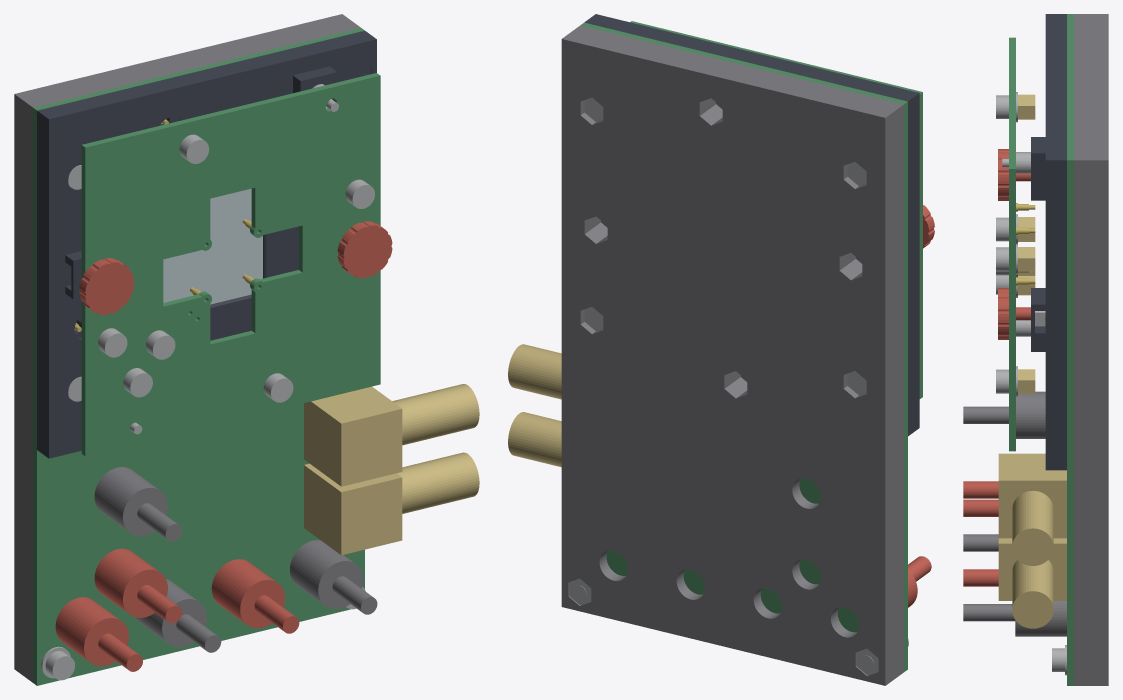
File: T2P-L3-pin_open.glb
3 views of the same model, side by side, from view 1: azimuth 30°, elevation 25°; view 2: azimuth 150°, elevation 25°; view 3: azimuth 270°, elevation 25° (orthographic). The views are drawn at different scales.
Parts seen in each view (by area): view 1: p034, p001, p002, p000, p013, p012, p007, p010, p008, p033, p032, p011 (+3 smaller); view 2: p000, p002, p001, p013, p012, p034, p008; view 3: p000, p002, p013, p001, p012, p034, p032, p011, p052, p051, p008, p009 (+13 smaller).
Boxes of the visible parts, bbox=[...] form: p034: bbox=[81, 73, 380, 456]; p001: bbox=[33, 28, 364, 685]; p002: bbox=[37, 30, 376, 458]; p000: bbox=[14, 14, 360, 682]; p013: bbox=[304, 384, 479, 486]; p012: bbox=[304, 452, 479, 555]; p007: bbox=[163, 188, 262, 304]; p010: bbox=[211, 559, 299, 633]; p008: bbox=[55, 597, 142, 671]; p033: bbox=[94, 548, 181, 623]; p032: bbox=[94, 467, 181, 541]; p011: bbox=[290, 540, 377, 614]; p000: bbox=[561, 25, 903, 685]; p002: bbox=[584, 14, 919, 436]; p001: bbox=[581, 22, 907, 671]; p013: bbox=[508, 344, 561, 399]; p012: bbox=[508, 412, 561, 467]; p034: bbox=[630, 21, 922, 398]; p008: bbox=[908, 556, 931, 607]; p000: bbox=[1074, 14, 1108, 685]; p002: bbox=[1031, 14, 1066, 470]; p013: bbox=[998, 453, 1066, 565]; p001: bbox=[1067, 14, 1073, 685]; p012: bbox=[998, 538, 1066, 628]; p034: bbox=[1009, 37, 1015, 451]; p032: bbox=[963, 391, 1045, 438]; p011: bbox=[963, 601, 1066, 636]; p052: bbox=[998, 288, 1045, 339]; p051: bbox=[998, 149, 1030, 200]; p008: bbox=[963, 499, 998, 516]; p009: bbox=[963, 534, 998, 551].
Size of the model in its own units: 101 by 134 by 33.6.
